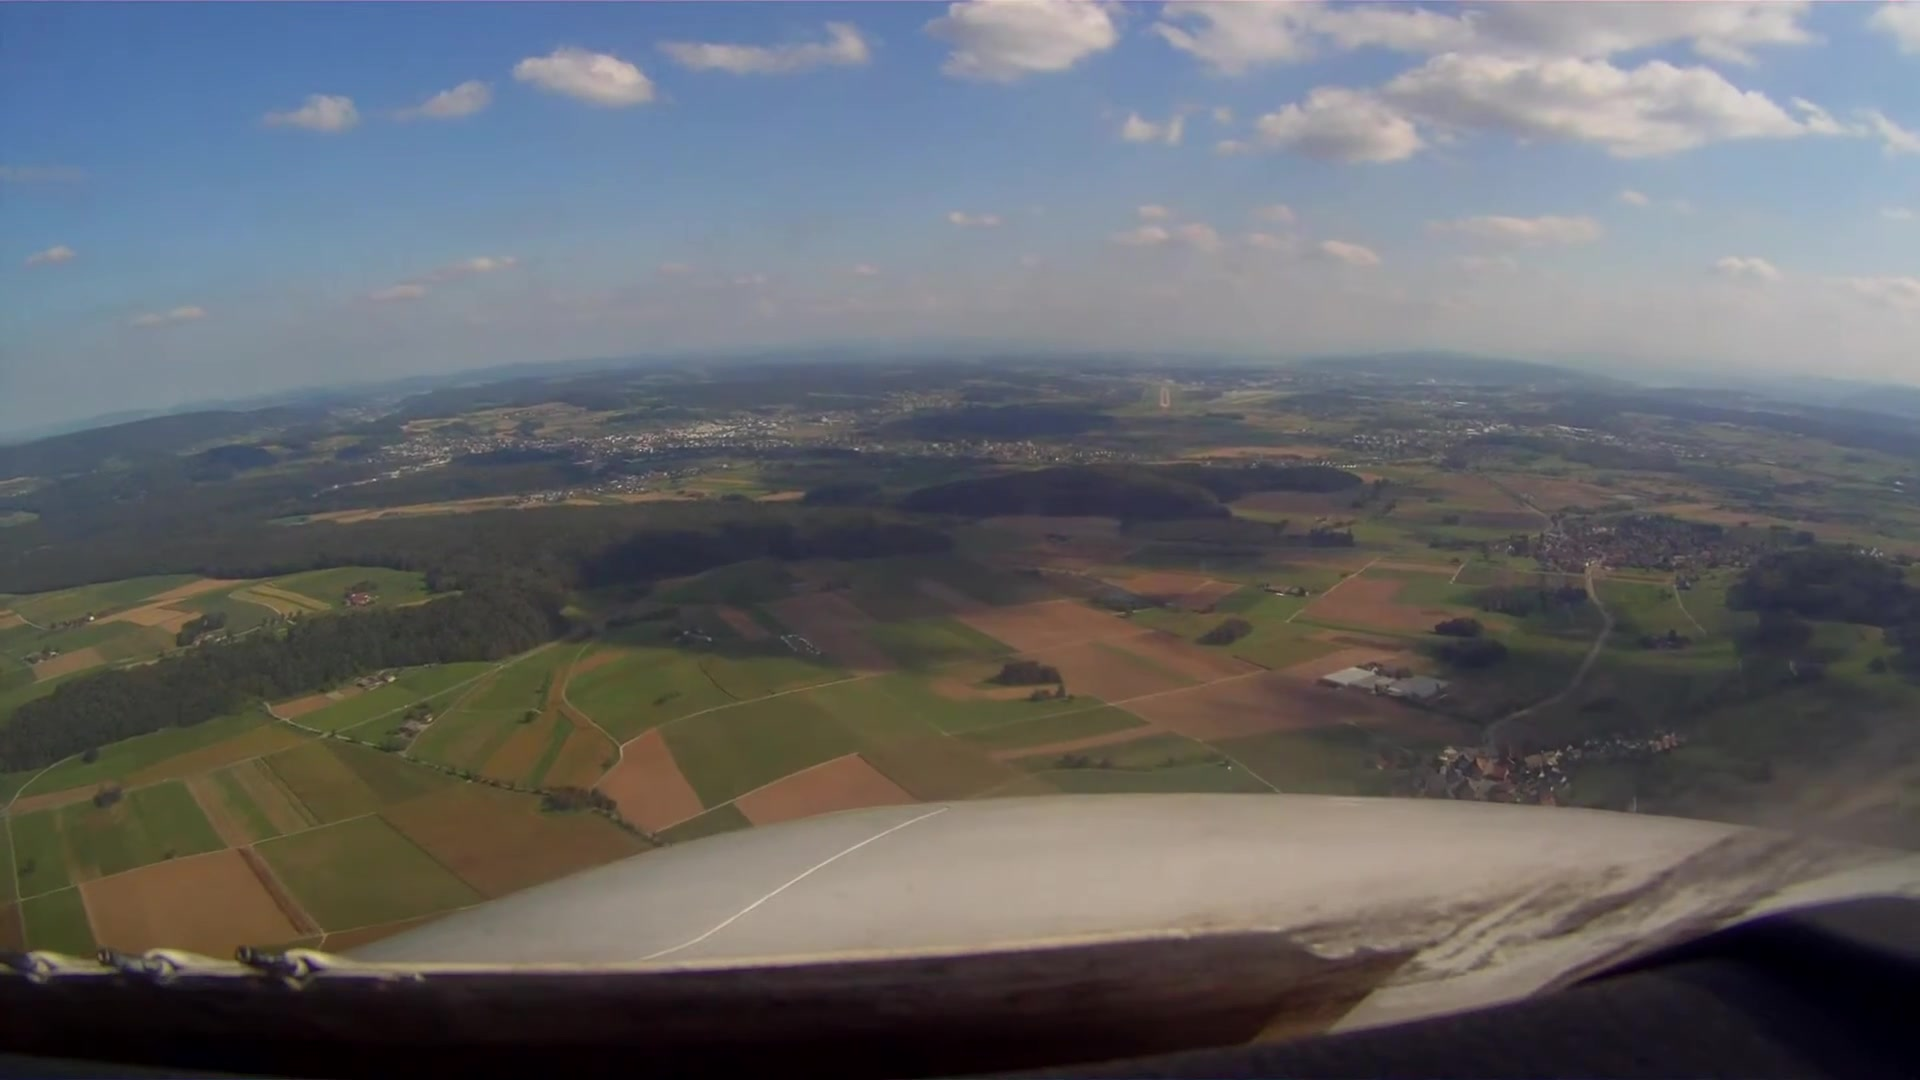runway: (1158, 386, 1171, 409)
